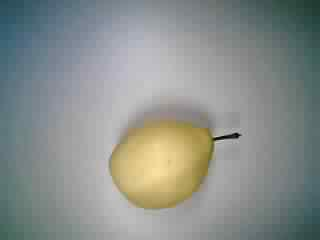pear: (97, 107, 254, 214)
